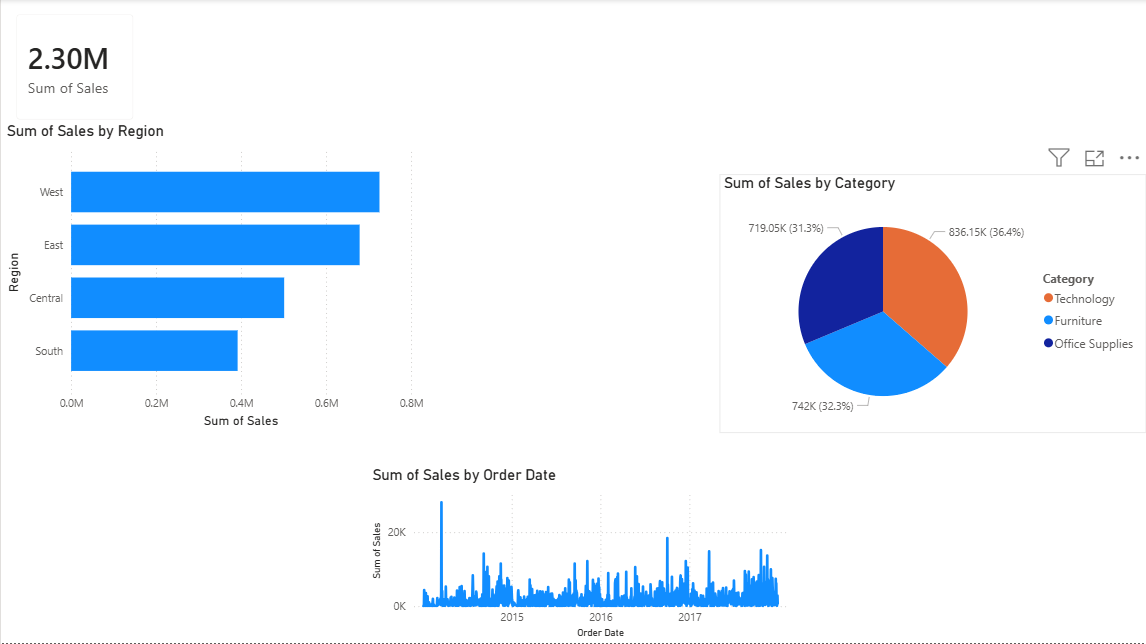

The dashboard page shown, as its layout file describes it:
{"tool":"powerbi","page":{"name":"Page 1","canvas":[1280,720],"ordinal":0},"visuals":[{"type":"cardVisual","fields":{"Data":["Sum(Orders.Sales)"]},"box":[0,0,165.6,152.6],"z":0},{"type":"barChart","fields":{"Category":["Orders.Region"],"Y":["Sum(Orders.Sales)"]},"box":[1.4,138.2,476.6,347],"z":1000},{"type":"pieChart","fields":{"Category":["Orders.Category"],"Y":["Sum(Orders.Sales)"]},"box":[803.4,195.8,476.6,289.4],"z":2000},{"type":"lineChart","fields":{"Y":["Sum(Orders.Sales)"],"Category":["Orders.Order Date"]},"box":[410.4,522.7,476.6,197.3],"z":2001}]}

Visuals, with their boxes in screenshot pixels (x1, y1, x2, y2), scaled from the page's 1280x720 canvas onto the 1146x644 screenshot:
cardVisual - Sum(Orders.Sales): box=[0, 0, 148, 136]
barChart - Orders.Region x Sum(Orders.Sales): box=[1, 124, 428, 434]
pieChart - Orders.Category x Sum(Orders.Sales): box=[719, 175, 1145, 434]
lineChart - Sum(Orders.Sales) x Orders.Order Date: box=[367, 468, 794, 643]
